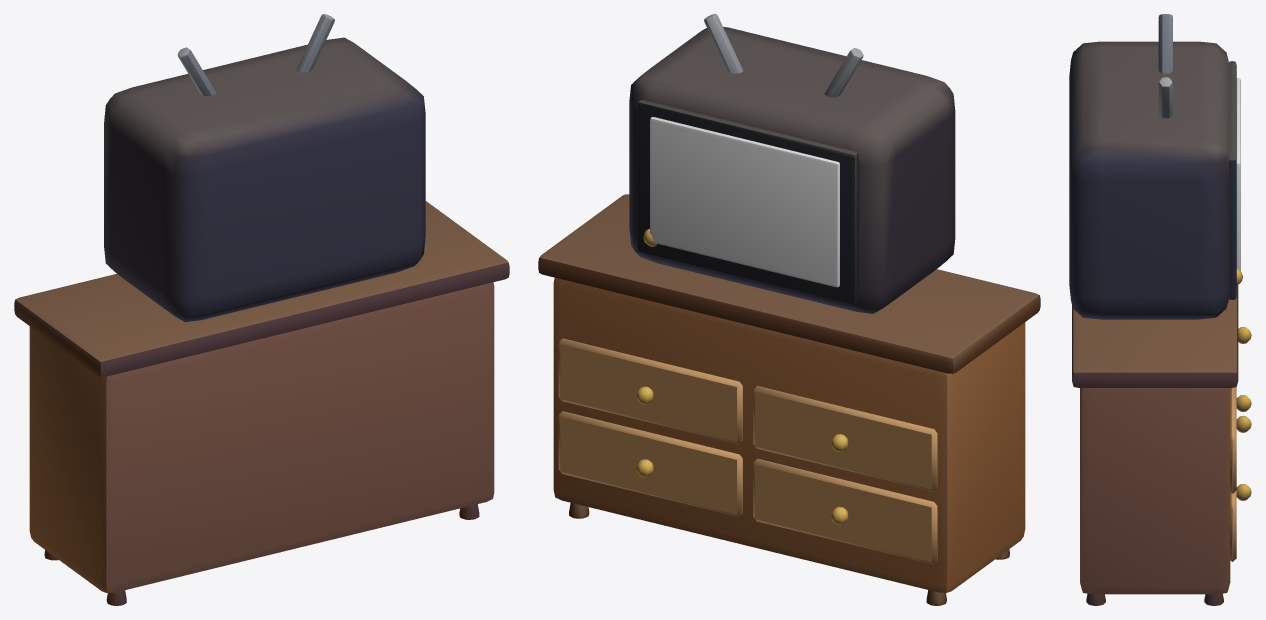
File: Dresser.fbx
3 renders of one model, left to right at view 1: azimuth 30°, elevation 25°; view 2: azimuth 150°, elevation 25°; view 3: azimuth 270°, elevation 25°, orthographic. The views are drawn at different scales.
Visible parts, largest first — view 1: SM_Prop_Dresser; view 2: SM_Prop_Dresser, SM_Prop_Dresser_Screen; view 3: SM_Prop_Dresser, SM_Prop_Dresser_Screen.
Boxes of the visible parts, x1=… form: SM_Prop_Dresser: x1=14, y1=14, x2=509, y2=605; SM_Prop_Dresser: x1=538, y1=14, x2=1040, y2=605; SM_Prop_Dresser_Screen: x1=650, y1=117, x2=839, y2=287; SM_Prop_Dresser: x1=1069, y1=14, x2=1251, y2=605; SM_Prop_Dresser_Screen: x1=1236, y1=78, x2=1240, y2=271.
Bounding box in the file's own units: 4.2 × 4.88 × 1.7.
